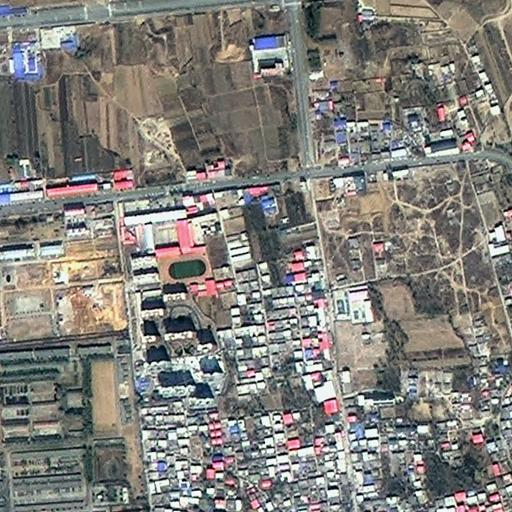school: (155, 206, 216, 286)
